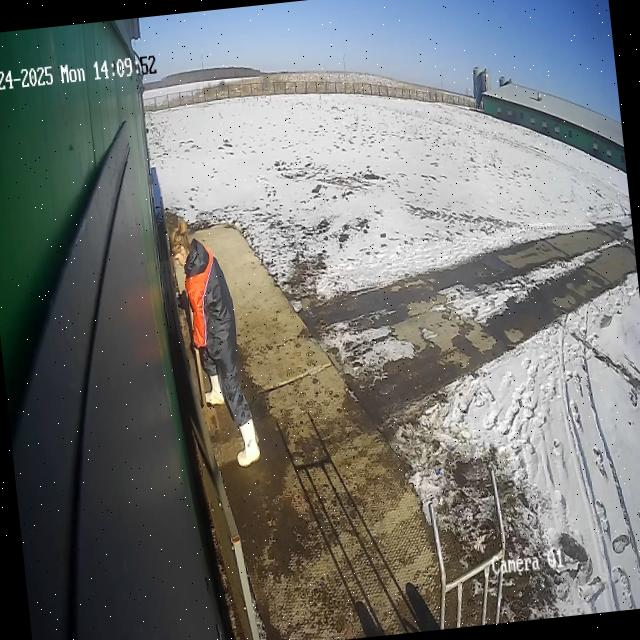Red uniform: (165, 212, 264, 475)
